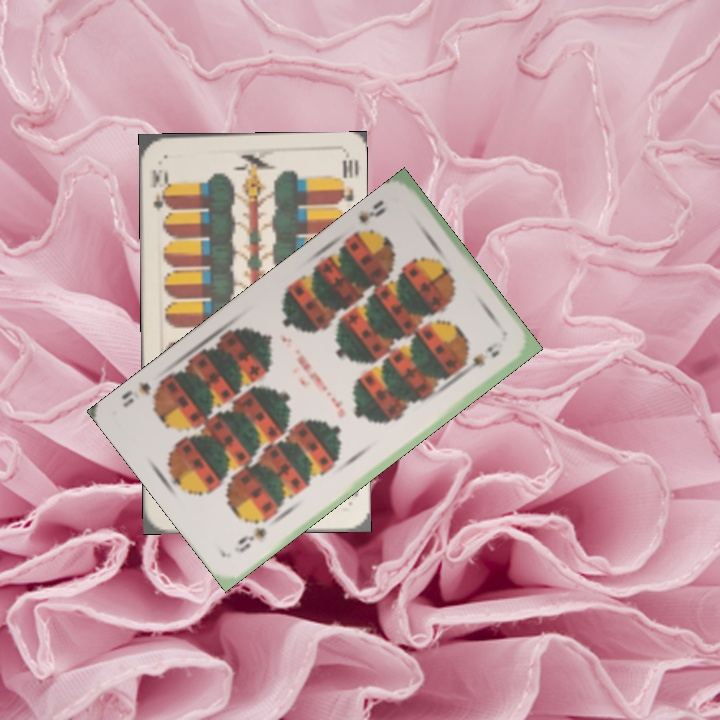E10: (146, 166, 173, 217)
S9: (349, 196, 389, 243), (230, 523, 269, 556)
